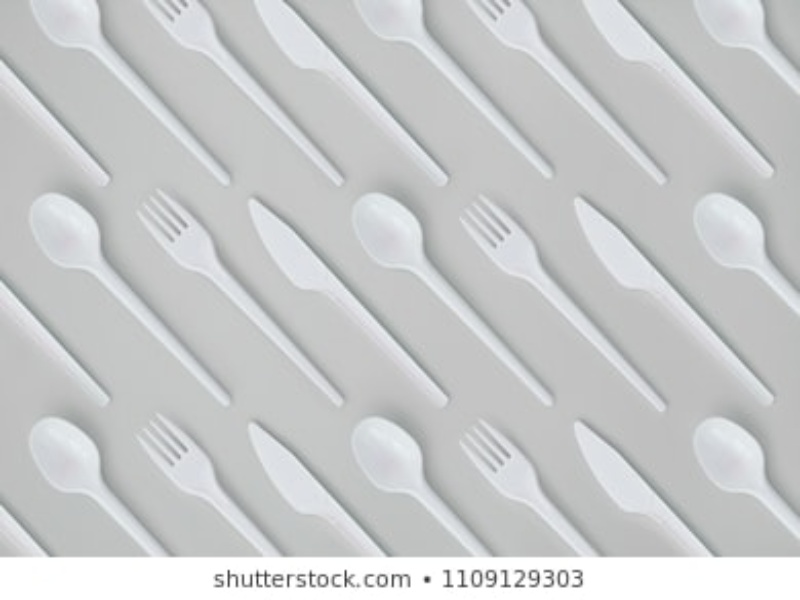plastic-silverware: (27, 194, 235, 409), (459, 197, 667, 412), (570, 196, 778, 411), (139, 193, 347, 408), (244, 195, 452, 410), (348, 193, 556, 408), (30, 1, 237, 190), (469, 2, 669, 187), (143, 2, 344, 186), (351, 2, 556, 181), (258, 2, 455, 188), (583, 1, 778, 180), (28, 417, 169, 558), (349, 417, 490, 558), (457, 420, 598, 561), (575, 418, 716, 559), (138, 413, 279, 554), (245, 417, 386, 558), (687, 193, 800, 316), (692, 418, 800, 534), (692, 1, 800, 96)
